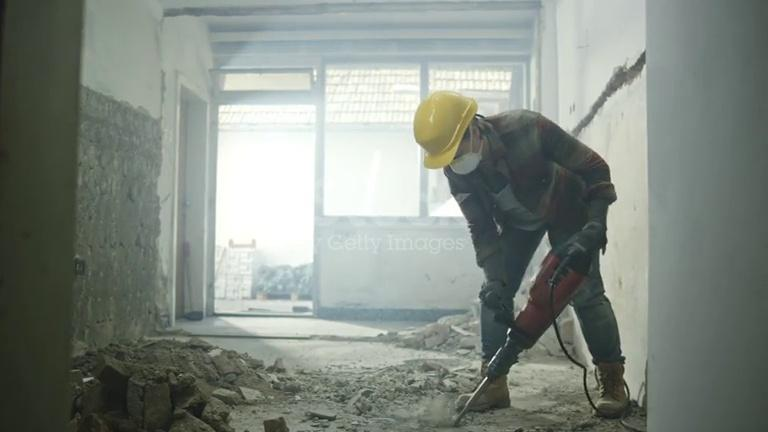helmet: (413, 89, 479, 171)
mask: (443, 151, 481, 175)
person: (411, 91, 632, 415)
